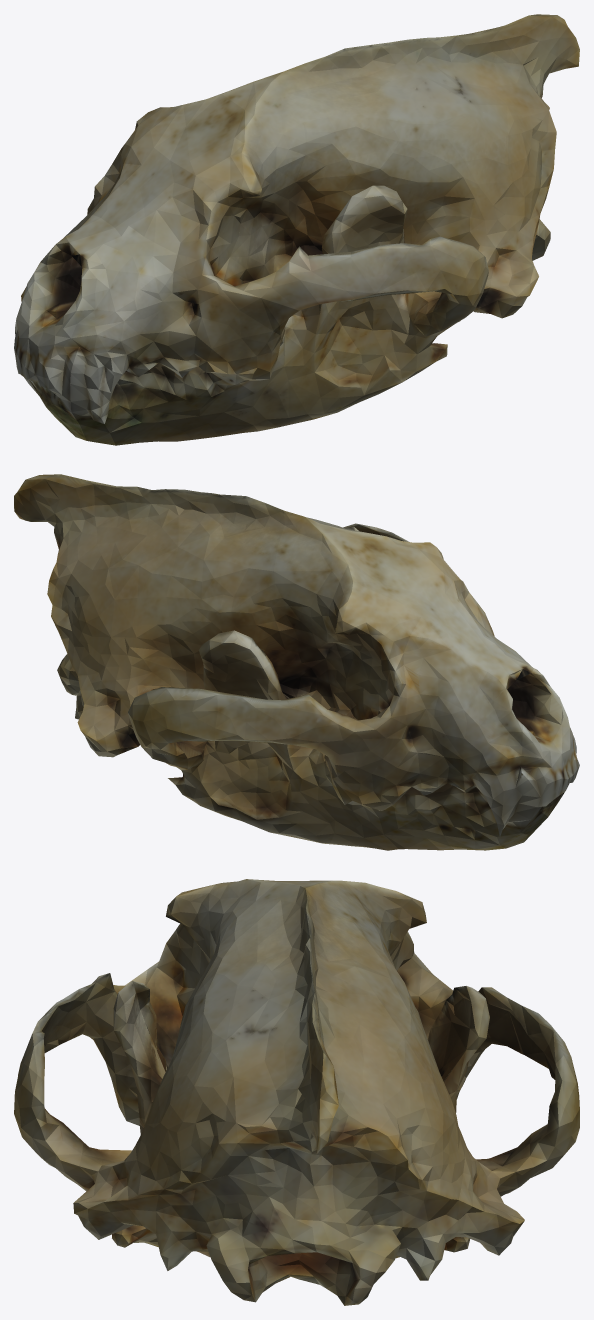
Rendered from firstAtempt_copy_Model_19.fbx.
3 views of the same model, one above another, from view 1: azimuth 30°, elevation 25°; view 2: azimuth 150°, elevation 25°; view 3: azimuth 270°, elevation 25° (orthographic). The views are drawn at different scales.
Visible parts, largest first — view 1: firstAtempt_copy_Model_19; view 2: firstAtempt_copy_Model_19; view 3: firstAtempt_copy_Model_19.
Boxes of the visible parts, x1,y1,x2,y2 form: firstAtempt_copy_Model_19: (14, 14, 579, 445); firstAtempt_copy_Model_19: (14, 474, 579, 850); firstAtempt_copy_Model_19: (14, 879, 579, 1305).
Size of the model in its own units: 0.3069 by 0.4383 by 0.2405.
